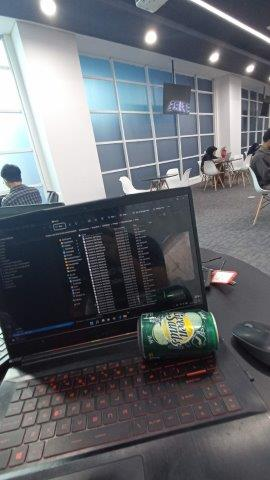kaleng: (137, 311, 219, 358)
